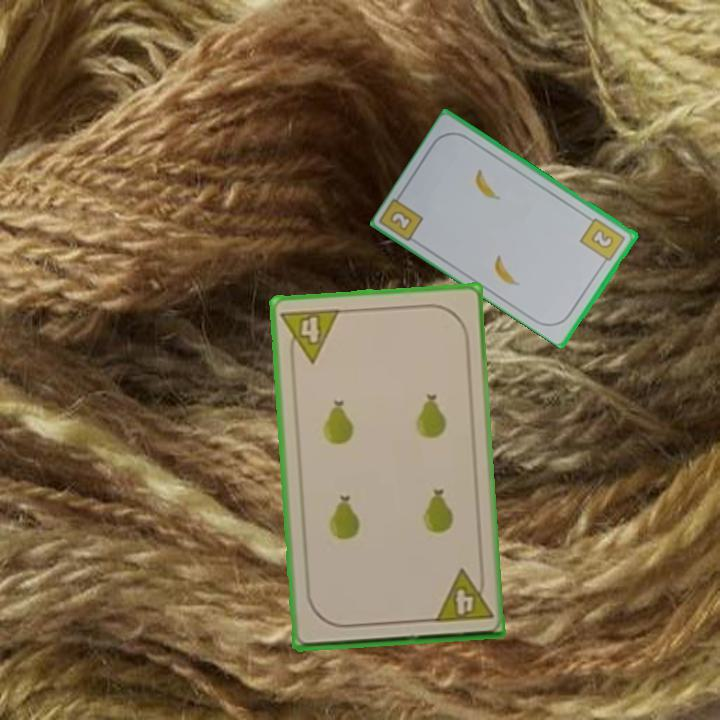2b: (577, 214, 629, 268), (386, 207, 416, 234)
4p: (278, 305, 343, 367), (430, 565, 495, 625)
